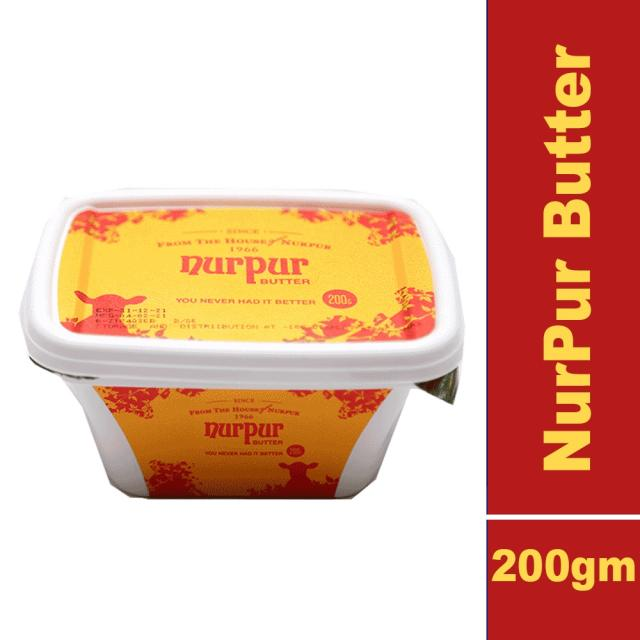butter: (20, 190, 464, 500)
